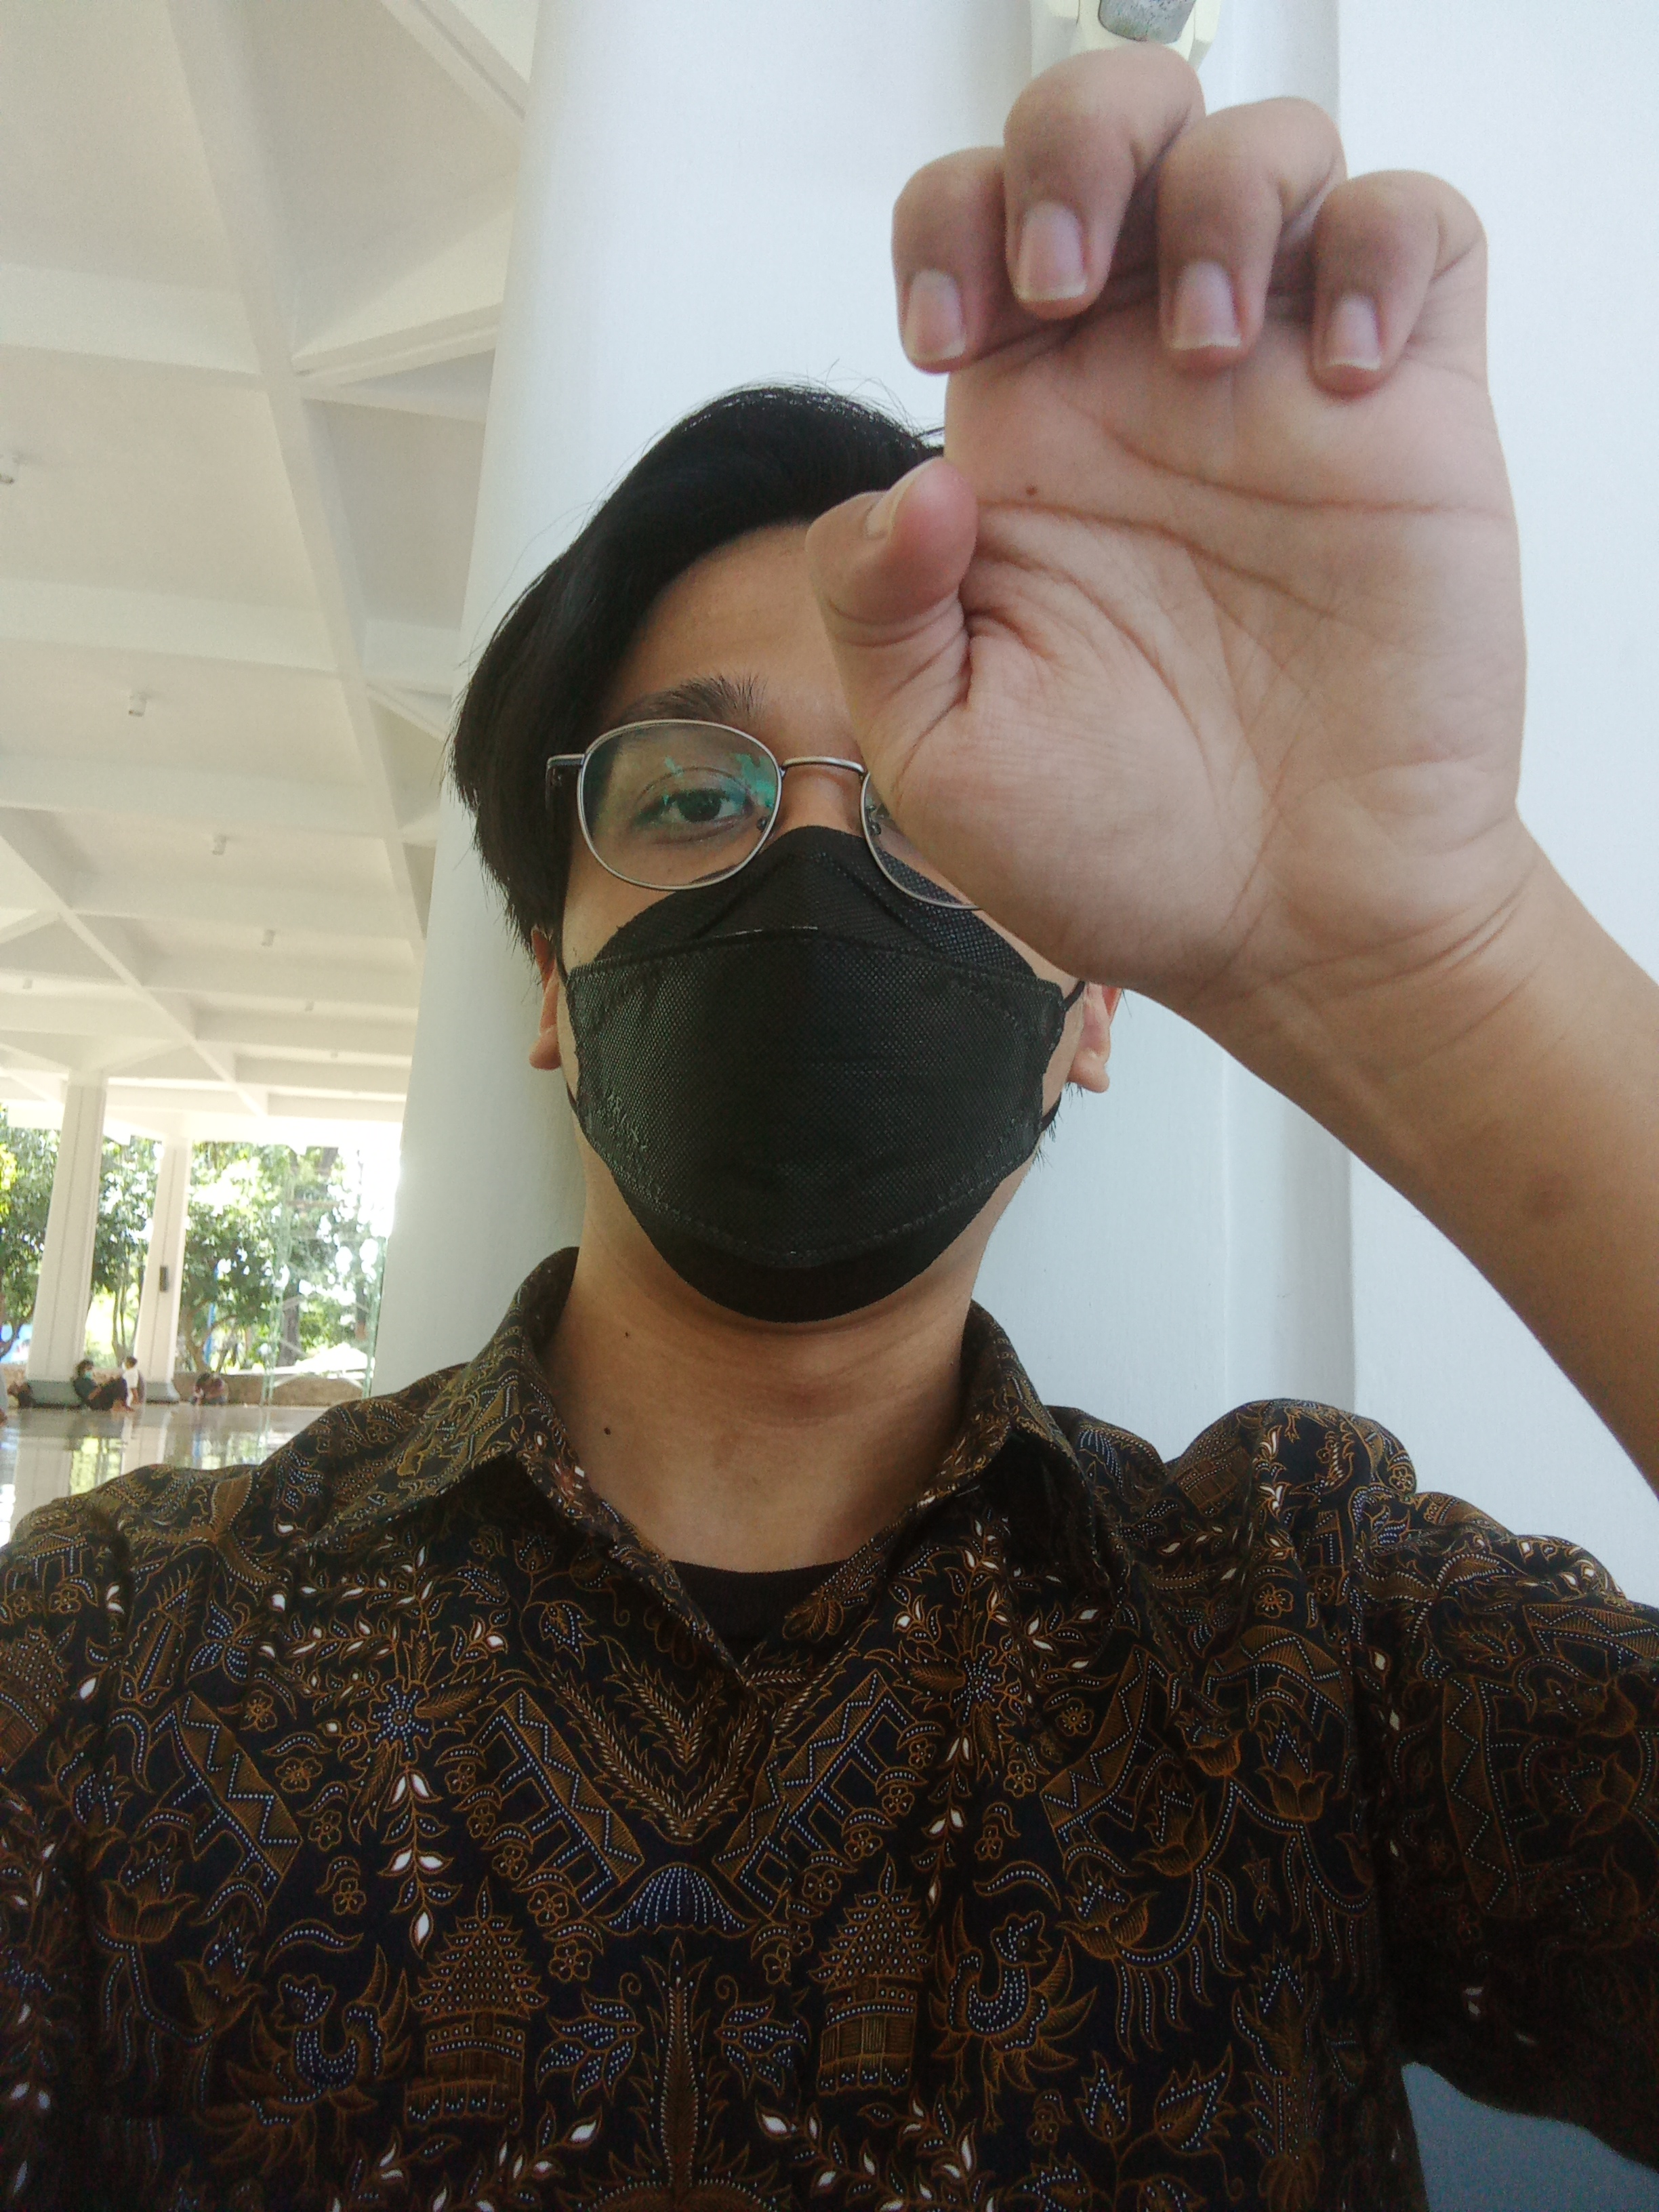E: (789, 24, 1610, 1057)
